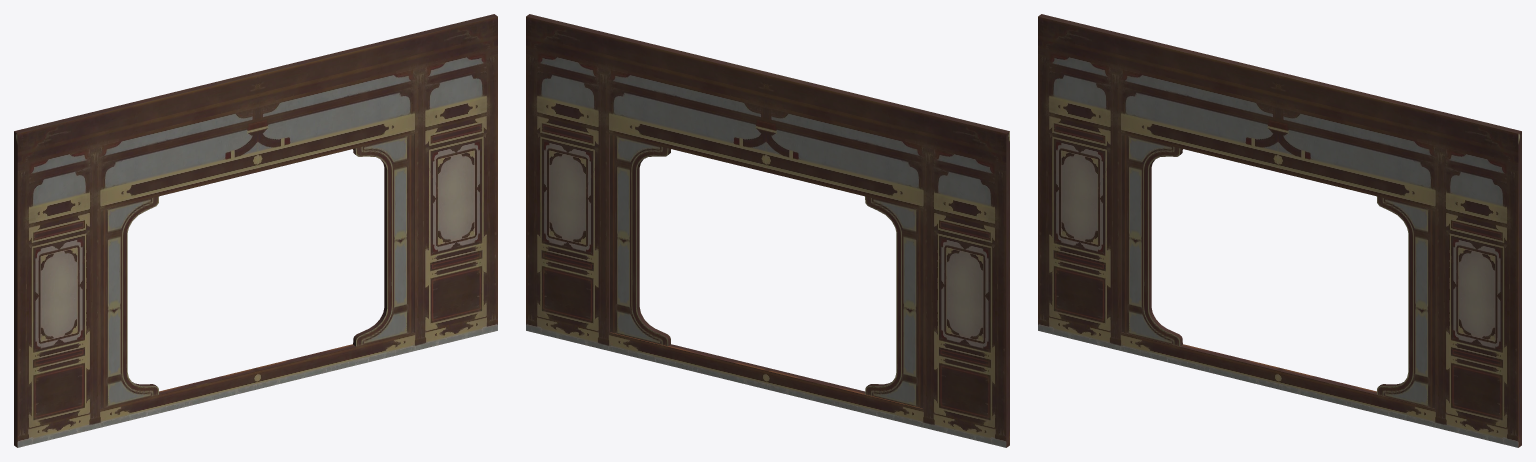
File: furniture-19213.glb
3 renders of one model, left to right at view 1: azimuth 30°, elevation 25°; view 2: azimuth 150°, elevation 25°; view 3: azimuth 330°, elevation 25°, orthographic.
Size of the model in its own units: 8 by 5 by 0.1.
Materials: 1 (1 with a texture image).
